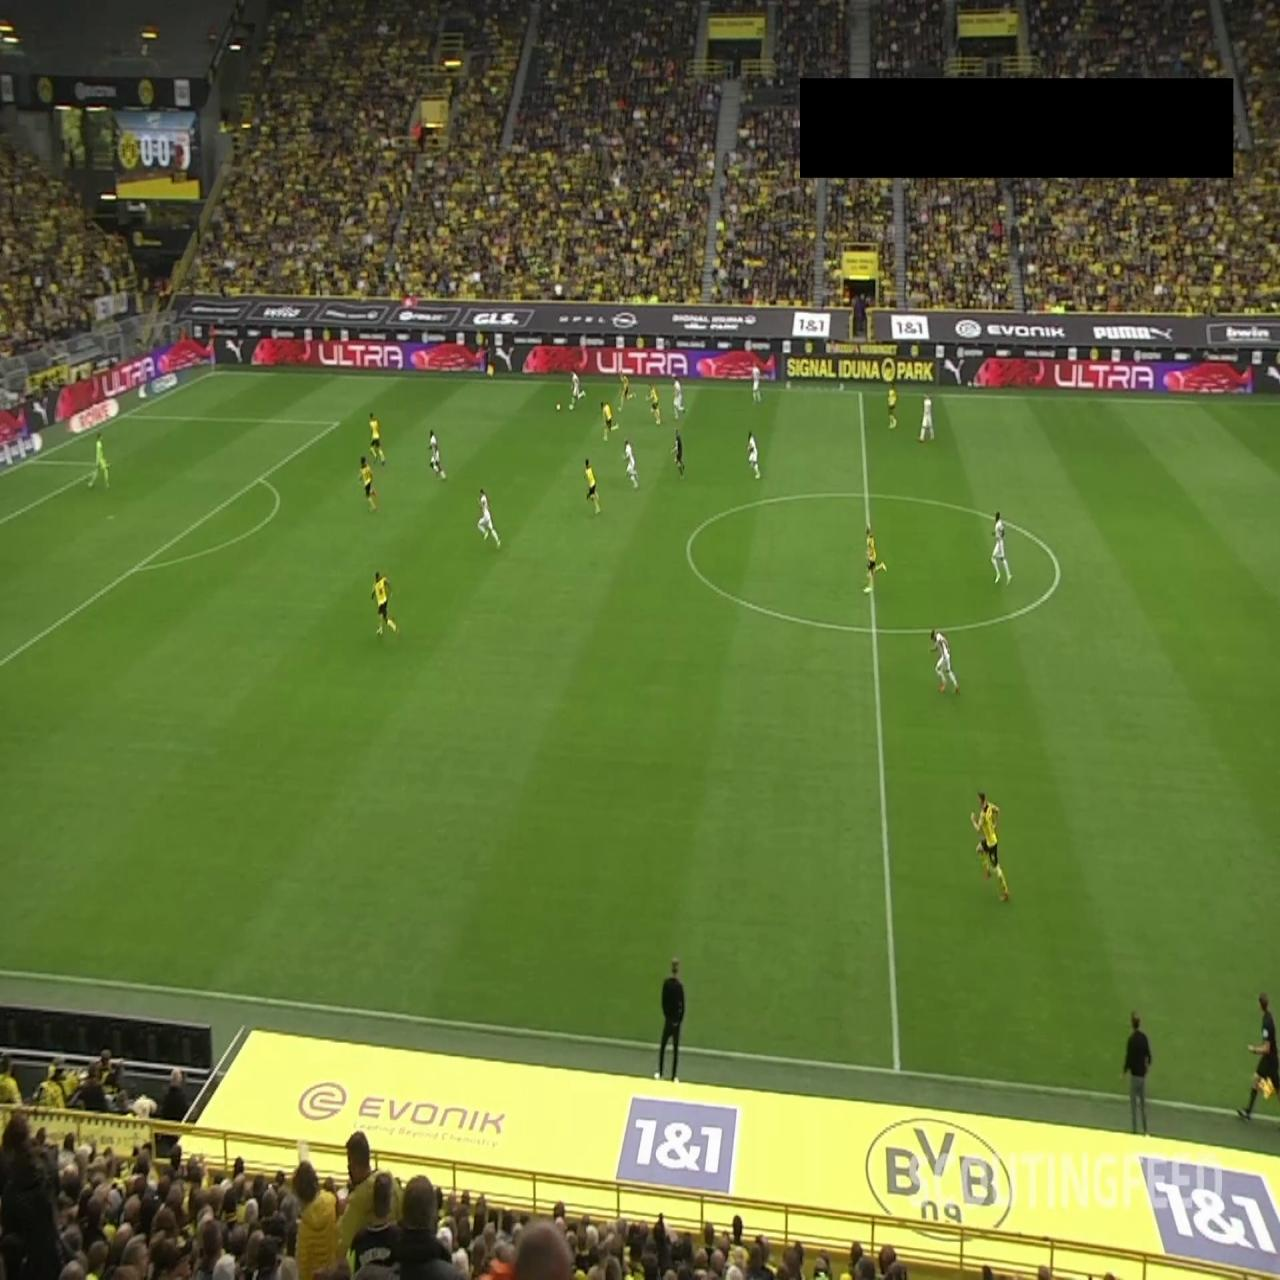Ball: (555, 400, 562, 416)
GoalKeeper: (86, 432, 110, 490)
Player: (971, 789, 1010, 903), (929, 628, 960, 693), (371, 572, 398, 636), (863, 525, 887, 595), (991, 510, 1012, 586), (478, 487, 500, 550), (358, 454, 378, 512), (368, 410, 387, 467), (583, 458, 602, 514), (616, 368, 638, 412), (428, 429, 447, 479), (622, 438, 640, 490), (918, 396, 936, 442), (568, 371, 586, 414), (601, 401, 619, 444), (886, 380, 900, 433), (748, 431, 761, 478), (649, 384, 662, 426), (672, 376, 684, 419), (752, 365, 762, 403)
Referee: (1236, 990, 1280, 1121), (670, 428, 686, 482), (482, 334, 496, 381)
